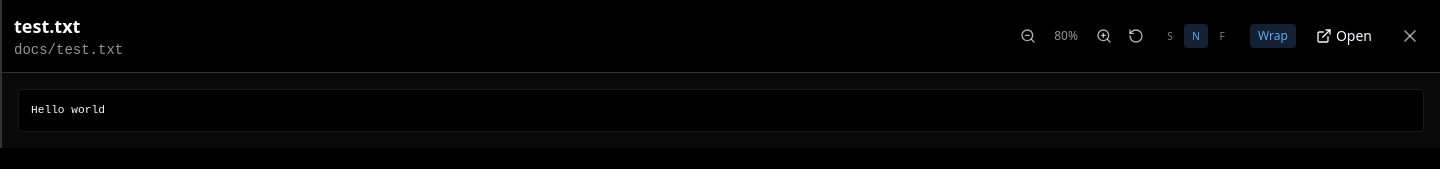
Test: PreviewPanel zoom controls › zoom in button increases zoom
This screenshot has width=1440, height=169.
Click the button named "Zoom in": (1104, 36) [1090,22,1118,50]
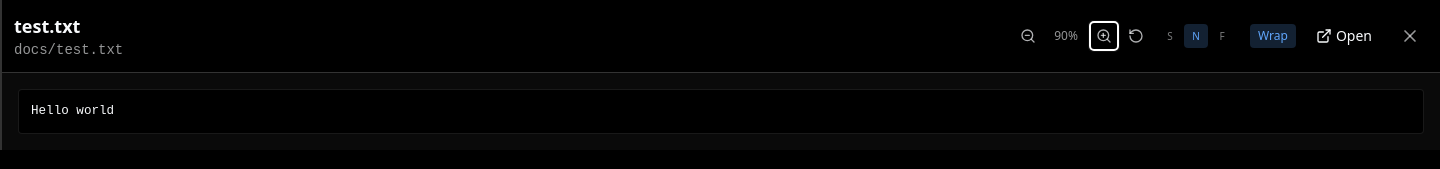
Click the button named "Zoom in": (1104, 36) [1090,22,1118,50]
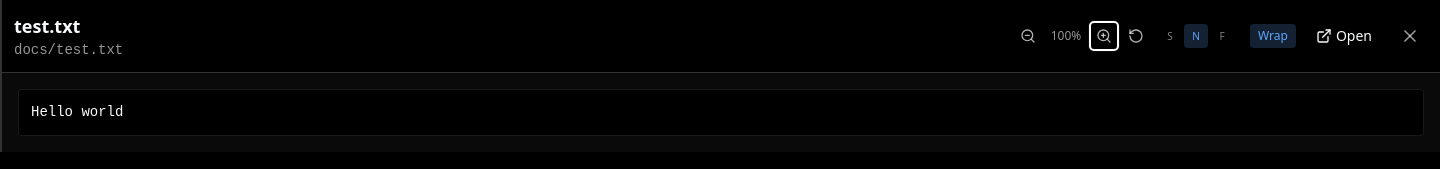
expect the text "100%" is shown: met, box [1051,27,1081,44]
